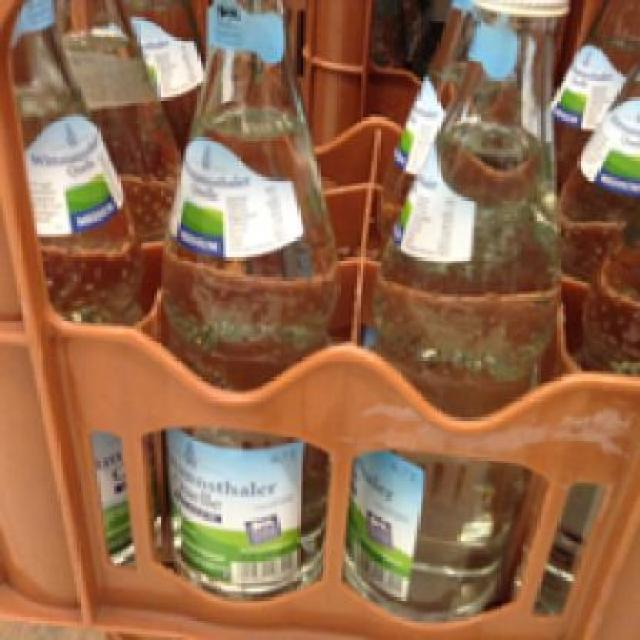Water: (348, 0, 574, 626), (152, 0, 337, 600), (4, 0, 141, 575)
